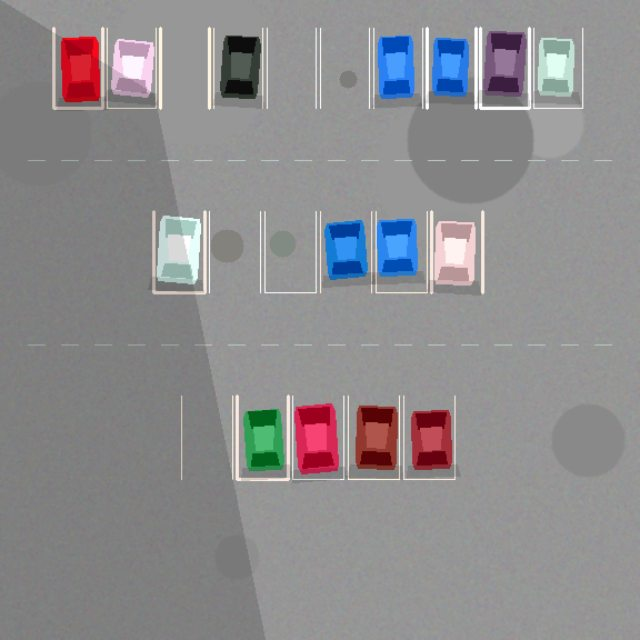space-empty: (181, 396, 232, 479), (264, 211, 316, 292), (209, 211, 260, 292), (160, 28, 209, 108), (267, 28, 316, 108), (320, 28, 369, 108)
space-occupied: (237, 396, 288, 479), (292, 396, 343, 479), (348, 396, 399, 479), (403, 396, 454, 479), (153, 211, 204, 292), (320, 211, 371, 292), (376, 211, 427, 292), (431, 211, 482, 292), (53, 28, 102, 108), (107, 28, 156, 108), (213, 28, 262, 108), (373, 28, 422, 108), (427, 28, 476, 108), (480, 28, 529, 108), (533, 28, 582, 108)
